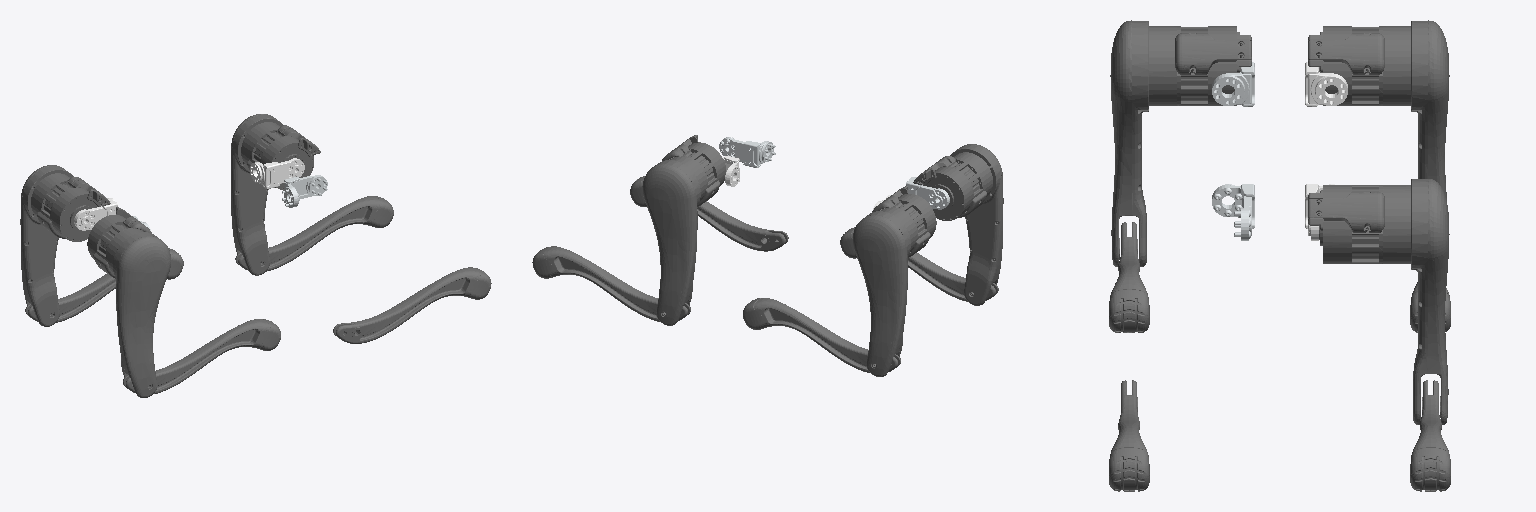
The robot description file, URDF, robot "legbot_description":
<?xml version='1.0' encoding='utf-8'?>
<robot name="legbot_description">
  <link name="base">
    <inertial>
      <origin xyz="-0.012 0.002 0.001" rpy="0 0 0" />
      <mass value="7.09" />
      <inertia ixx="0.044277" ixy="-0.000146" ixz="-0.024292" iyy="0.105409" iyz="-0.000032" izz="0.091875" />
    </inertial>
    <visual>
      <origin xyz="0 0 0" rpy="0 0 0" />
      <geometry><mesh filename="package://legbot_description/meshes/base_link.STL" /></geometry>
      <material name="grey"><color rgba="0.752941 0.752941 0.752941 1" /></material>
    </visual>
    <collision>
      <origin xyz="0 0 0.004583" rpy="0 0 0" />
      <geometry><box size="0.27 0.21 0.11" /></geometry>
    </collision>
  </link>

  <link name="FR_hip">
    <inertial>
      <origin xyz="-0.027882 0.015355 0" rpy="0 0 0" />
      <mass value="0.079643" />
      <inertia ixx="8.72171e-05" ixy="0" ixz="0" iyy="7.7874e-05" iyz="0" izz="2.29089e-05" />
    </inertial>
    <visual>
      <origin xyz="0 0 0" rpy="0 0 0" />
      <geometry><mesh filename="package://legbot_description/meshes/FR_hip.STL" /></geometry>
      <material name="light_grey"><color rgba="0.898039 0.917647 0.929412 1" /></material>
    </visual>
    <collision>
      <origin xyz="0 -0.04875 0" rpy="1.5707963 0 0" />
      <geometry><cylinder length="0.04" radius="0.046" /></geometry>
    </collision>
  </link>
  <joint name="FR_hip_joint" type="revolute">
    <origin xyz="0.18453 -0.051 0.012" rpy="0 0 0" />
    <parent link="base" /><child link="FR_hip" />
    <axis xyz="1 0 0" />
    <limit lower="-0.73304" upper="0.73304" effort="16" velocity="30" />
  </joint>

  <link name="FR_thigh">
    <inertial>
      <origin xyz="-0.000498 0.038065 -0.024467" rpy="0 0 0" />
      <mass value="1.456" />
      <inertia ixx="0.00679074" ixy="0" ixz="0" iyy="0.00586921" iyz="0" izz="0.00204705" />
    </inertial>
    <visual>
      <origin xyz="0 0 0" rpy="0 0 0" />
      <geometry><mesh filename="package://legbot_description/meshes/FR_thigh.STL" /></geometry>
      <material name="dark_grey"><color rgba="0.498039 0.498039 0.498039 1" /></material>
    </visual>
    <collision>
      <origin rpy="0 1.5707963 0" xyz="0 0 -0.1" />
      <geometry><box size="0.2 0.026 0.034" /></geometry>
    </collision>
  </link>
  <joint name="FR_thigh_joint" type="revolute">
    <origin xyz="0 -0.0975 0" rpy="0 0 0" />
    <parent link="FR_hip" /><child link="FR_thigh" />
    <axis xyz="0 1 0" />
    <limit lower="-1.559" upper="3.1298" effort="16" velocity="30" />
  </joint>

  <link name="FR_calf">
    <inertial>
      <origin xyz="0.00261631 0 -0.125302" rpy="0 0 0" />
      <mass value="0.183986" />
      <inertia ixx="0.00125035" ixy="0" ixz="0" iyy="0.0012368" iyz="0" izz="3.55485e-05" />
    </inertial>
    <visual>
      <origin xyz="0 0 0" rpy="0 0 0" />
      <geometry><mesh filename="package://legbot_description/meshes/FR_calf.STL" /></geometry>
      <material name="dark_grey"><color rgba="0.498039 0.498039 0.498039 1" /></material>
    </visual>
    <collision>
      <origin rpy="0 0 0" xyz="0 0 -0.1" />
      <geometry><cylinder length="0.16" radius="0.012" /></geometry>
    </collision>
  </link>
  <joint name="FR_calf_joint" type="revolute">
    <origin xyz="0 0 -0.1985" rpy="0 0 0" />
    <parent link="FR_thigh" /><child link="FR_calf" />
    <axis xyz="0 1 0" />
    <limit lower="-2.6387" upper="-0.7854" effort="32" velocity="15.7" />
  </joint>

  <link name="FR_foot">
    <inertial><origin xyz="0 0 0" rpy="0 0 0" /><mass value="0.025" /><inertia ixx="9.6e-06" ixy="0" ixz="0" iyy="9.6e-06" iyz="0" izz="9.6e-06" /></inertial>
    <visual>
      <origin xyz="0 0 0" rpy="0 0 0" />
      <geometry><mesh filename="package://legbot_description/meshes/FR_foot.STL" /></geometry>
      <material name="dark_grey"><color rgba="0.498039 0.498039 0.498039 1" /></material>
    </visual>
    <collision>
      <origin rpy="0 0 0" xyz="0 0 0" />
      <geometry><sphere radius="0.021" /></geometry>
    </collision>
  </link>
  <joint name="FR_foot_joint" type="fixed" dont_collapse="true">
    <origin xyz="0 0 -0.214" rpy="0 0 0" />
    <parent link="FR_calf" /><child link="FR_foot" />
  </joint>

  <link name="FL_hip">
    <inertial>
      <origin xyz="-0.027882 -0.015355 0" rpy="0 0 0" />
      <mass value="0.079643" />
      <inertia ixx="8.72171e-05" ixy="0" ixz="0" iyy="7.7874e-05" iyz="0" izz="2.29089e-05" />
    </inertial>
    <visual>
      <origin xyz="0 0 0" rpy="0 0 0" />
      <geometry><mesh filename="package://legbot_description/meshes/FL_hip.STL" /></geometry>
      <material name="white"><color rgba="1 1 1 1" /></material>
    </visual>
    <collision>
      <origin xyz="0 0.04875 0" rpy="1.5707963 0 0" />
      <geometry><cylinder length="0.04" radius="0.046" /></geometry>
    </collision>
  </link>
  <joint name="FL_hip_joint" type="revolute">
    <origin xyz="0.18453 0.051 0.012" rpy="0 0 0" />
    <parent link="base" /><child link="FL_hip" />
    <axis xyz="1 0 0" />
    <limit lower="-0.73304" upper="0.73304" effort="16" velocity="30" />
  </joint>

  <link name="FL_thigh">
    <inertial>
      <origin xyz="-0.000498 -0.038065 -0.024467" rpy="0 0 0" />
      <mass value="1.456" />
      <inertia ixx="0.00679074" ixy="0" ixz="0" iyy="0.00586921" iyz="0" izz="0.00204705" />
    </inertial>
    <visual>
      <origin xyz="0 0 0" rpy="0 0 0" />
      <geometry><mesh filename="package://legbot_description/meshes/FL_thigh.STL" /></geometry>
      <material name="dark_grey"><color rgba="0.498039 0.498039 0.498039 1" /></material>
    </visual>
    <collision>
      <origin rpy="0 1.5707963 0" xyz="0 0 -0.1" />
      <geometry><box size="0.2 0.026 0.034" /></geometry>
    </collision>
  </link>
  <joint name="FL_thigh_joint" type="revolute">
    <origin xyz="0 0.0975 0" rpy="0 0 0" />
    <parent link="FL_hip" /><child link="FL_thigh" />
    <axis xyz="0 1 0" />
    <limit lower="-1.559" upper="3.1298" effort="16" velocity="30" />
  </joint>

  <link name="FL_calf">
    <inertial>
      <origin xyz="0.00261631 0 -0.125302" rpy="0 0 0" />
      <mass value="0.183986" />
      <inertia ixx="0.00125035" ixy="0" ixz="0" iyy="0.0012368" iyz="0" izz="3.55485e-05" />
    </inertial>
    <visual>
      <origin xyz="0 0 0" rpy="0 0 0" />
      <geometry><mesh filename="package://legbot_description/meshes/FL_calf.STL" /></geometry>
      <material name="dark_grey"><color rgba="0.498039 0.498039 0.498039 1" /></material>
    </visual>
    <collision>
      <origin rpy="0 0 0" xyz="0 0 -0.1" />
      <geometry><cylinder length="0.16" radius="0.012" /></geometry>
    </collision>
  </link>
  <joint name="FL_calf_joint" type="revolute">
    <origin xyz="0 0 -0.1985" rpy="0 0 0" />
    <parent link="FL_thigh" /><child link="FL_calf" />
    <axis xyz="0 1 0" />
    <limit lower="-2.6387" upper="-0.7854" effort="32" velocity="15.7" />
  </joint>

  <link name="FL_foot">
    <inertial><origin xyz="0 0 0" rpy="0 0 0" /><mass value="0.025" /><inertia ixx="9.6e-06" ixy="0" ixz="0" iyy="9.6e-06" iyz="0" izz="9.6e-06" /></inertial>
    <visual>
      <origin xyz="0 0 0" rpy="0 0 0" />
      <geometry><mesh filename="package://legbot_description/meshes/FL_foot.STL" /></geometry>
      <material name="dark_grey"><color rgba="0.498039 0.498039 0.498039 1" /></material>
    </visual>
    <collision>
      <origin rpy="0 0 0" xyz="0 0 0" />
      <geometry><sphere radius="0.021" /></geometry>
    </collision>
  </link>
  <joint name="FL_foot_joint" type="fixed" dont_collapse="true">
    <origin xyz="0 0 -0.214" rpy="0 0 0" />
    <parent link="FL_calf" /><child link="FL_foot" />
  </joint>

  <link name="RR_hip">
    <inertial>
      <origin xyz="0.027882 0.015355 0" rpy="0 0 0" />
      <mass value="0.079643" />
      <inertia ixx="8.72171e-05" ixy="0" ixz="0" iyy="7.7874e-05" iyz="0" izz="2.29089e-05" />
    </inertial>
    <visual>
      <origin xyz="0 0 0" rpy="0 0 0" />
      <geometry><mesh filename="package://legbot_description/meshes/RR_hip.STL" /></geometry>
      <material name="light_grey"><color rgba="0.898039 0.917647 0.929412 1" /></material>
    </visual>
    <collision>
      <origin xyz="0 -0.04875 0" rpy="1.5707963 0 0" />
      <geometry><cylinder length="0.04" radius="0.046" /></geometry>
    </collision>
  </link>
  <joint name="RR_hip_joint" type="revolute">
    <origin xyz="-0.18453 -0.051 0.012" rpy="0 0 0" />
    <parent link="base" /><child link="RR_hip" />
    <axis xyz="1 0 0" />
    <limit lower="-0.73304" upper="0.73304" effort="16" velocity="30" />
  </joint>

  <link name="RR_thigh">
    <inertial>
      <origin xyz="-0.000498 0.038065 -0.024467" rpy="0 0 0" />
      <mass value="1.456" />
      <inertia ixx="0.00679074" ixy="0" ixz="0" iyy="0.00586921" iyz="0" izz="0.00204705" />
    </inertial>
    <visual>
      <origin xyz="0 0 0" rpy="0 0 0" />
      <geometry><mesh filename="package://legbot_description/meshes/RR_thigh.STL" /></geometry>
      <material name="dark_grey"><color rgba="0.498039 0.498039 0.498039 1" /></material>
    </visual>
    <collision>
      <origin rpy="0 1.5707963 0" xyz="0 0 -0.1" />
      <geometry><box size="0.2 0.026 0.034" /></geometry>
    </collision>
  </link>
  <joint name="RR_thigh_joint" type="revolute">
    <origin xyz="0 -0.0975 0" rpy="0 0 0" />
    <parent link="RR_hip" /><child link="RR_thigh" />
    <axis xyz="0 1 0" />
    <limit lower="-0.51181" upper="4.177" effort="16" velocity="30" />
  </joint>

  <link name="RR_calf">
    <inertial>
      <origin xyz="0.00261631 0 -0.125302" rpy="0 0 0" />
      <mass value="0.183986" />
      <inertia ixx="0.00125035" ixy="0" ixz="0" iyy="0.0012368" iyz="0" izz="3.55485e-05" />
    </inertial>
    <visual>
      <origin xyz="0 0 0" rpy="0 0 0" />
      <geometry><mesh filename="package://legbot_description/meshes/RR_calf.STL" /></geometry>
      <material name="dark_grey"><color rgba="0.498039 0.498039 0.498039 1" /></material>
    </visual>
    <collision>
      <origin rpy="0 0 0" xyz="0 0 -0.1" />
      <geometry><cylinder length="0.16" radius="0.012" /></geometry>
    </collision>
  </link>
  <joint name="RR_calf_joint" type="revolute">
    <origin xyz="0 0 -0.1985" rpy="0 0 0" />
    <parent link="RR_thigh" /><child link="RR_calf" />
    <axis xyz="0 1 0" />
    <limit lower="-2.6387" upper="-0.7854" effort="32" velocity="15.7" />
  </joint>

  <link name="RR_foot">
    <inertial><origin xyz="0 0 0" rpy="0 0 0" /><mass value="0.025" /><inertia ixx="9.6e-06" ixy="0" ixz="0" iyy="9.6e-06" iyz="0" izz="9.6e-06" /></inertial>
    <visual>
      <origin xyz="0 0 0" rpy="0 0 0" />
      <geometry><mesh filename="package://legbot_description/meshes/RR_foot.STL" /></geometry>
      <material name="dark_grey"><color rgba="0.498039 0.498039 0.498039 1" /></material>
    </visual>
    <collision>
      <origin rpy="0 0 0" xyz="0 0 0" />
      <geometry><sphere radius="0.021" /></geometry>
    </collision>
  </link>
  <joint name="RR_foot_joint" type="fixed" dont_collapse="true">
    <origin xyz="0 0 -0.214" rpy="0 0 0" />
    <parent link="RR_calf" /><child link="RR_foot" />
  </joint>

  <link name="RL_hip">
    <inertial>
      <origin xyz="0.027882 -0.015355 0" rpy="0 0 0" />
      <mass value="0.079643" />
      <inertia ixx="8.72171e-05" ixy="0" ixz="0" iyy="7.7874e-05" iyz="0" izz="2.29089e-05" />
    </inertial>
    <visual>
      <origin xyz="0 0 0" rpy="0 0 0" />
      <geometry><mesh filename="package://legbot_description/meshes/RL_hip.STL" /></geometry>
      <material name="white"><color rgba="1 1 1 1" /></material>
    </visual>
    <collision>
      <origin xyz="0 0.04875 0" rpy="1.5707963 0 0" />
      <geometry><cylinder length="0.04" radius="0.046" /></geometry>
    </collision>
  </link>
  <joint name="RL_hip_joint" type="revolute">
    <origin xyz="-0.18453 0.051 0.012" rpy="0 0 0" />
    <parent link="base" /><child link="RL_hip" />
    <axis xyz="1 0 0" />
    <limit lower="-0.73304" upper="0.73304" effort="16" velocity="30" />
  </joint>

  <link name="RL_thigh">
    <inertial>
      <origin xyz="-0.000498 -0.038065 -0.024467" rpy="0 0 0" />
      <mass value="1.456" />
      <inertia ixx="0.00679074" ixy="0" ixz="0" iyy="0.00586921" iyz="0" izz="0.00204705" />
    </inertial>
    <visual>
      <origin xyz="0 0 0" rpy="0 0 0" />
      <geometry><mesh filename="package://legbot_description/meshes/RL_thigh.STL" /></geometry>
      <material name="dark_grey"><color rgba="0.498039 0.498039 0.498039 1" /></material>
    </visual>
    <collision>
      <origin rpy="0 1.5707963 0" xyz="0 0 -0.1" />
      <geometry><box size="0.2 0.026 0.034" /></geometry>
    </collision>
  </link>
  <joint name="RL_thigh_joint" type="revolute">
    <origin xyz="0 0.0975 0" rpy="0 0 0" />
    <parent link="RL_hip" /><child link="RL_thigh" />
    <axis xyz="0 1 0" />
    <limit lower="-0.51181" upper="4.177" effort="16" velocity="30" />
  </joint>

  <link name="RL_calf">
    <inertial>
      <origin xyz="0.00261631 0 -0.125302" rpy="0 0 0" />
      <mass value="0.183986" />
      <inertia ixx="0.00125035" ixy="0" ixz="0" iyy="0.0012368" iyz="0" izz="3.55485e-05" />
    </inertial>
    <visual>
      <origin xyz="0 0 0" rpy="0 0 0" />
      <geometry><mesh filename="package://legbot_description/meshes/RL_calf.STL" /></geometry>
      <material name="dark_grey"><color rgba="0.498039 0.498039 0.498039 1" /></material>
    </visual>
    <collision>
      <origin rpy="0 0 0" xyz="0 0 -0.1" />
      <geometry><cylinder length="0.16" radius="0.012" /></geometry>
    </collision>
  </link>
  <joint name="RL_calf_joint" type="revolute">
    <origin xyz="0 0 -0.1985" rpy="0 0 0" />
    <parent link="RL_thigh" /><child link="RL_calf" />
    <axis xyz="0 1 0" />
    <limit lower="-2.6387" upper="-0.7854" effort="32" velocity="15.7" />
  </joint>

  <link name="RL_foot">
    <inertial><origin xyz="0 0 0" rpy="0 0 0" /><mass value="0.025" /><inertia ixx="9.6e-06" ixy="0" ixz="0" iyy="9.6e-06" iyz="0" izz="9.6e-06" /></inertial>
    <visual>
      <origin xyz="0 0 0" rpy="0 0 0" />
      <geometry><mesh filename="package://legbot_description/meshes/RL_foot.STL" /></geometry>
      <material name="dark_grey"><color rgba="0.498039 0.498039 0.498039 1" /></material>
    </visual>
    <collision>
      <origin rpy="0 0 0" xyz="0 0 0" />
      <geometry><sphere radius="0.021" /></geometry>
    </collision>
  </link>
  <joint name="RL_foot_joint" type="fixed" dont_collapse="true">
    <origin xyz="0 0 -0.214" rpy="0 0 0" />
    <parent link="RL_calf" /><child link="RL_foot" />
  </joint>
</robot>

--- What the picture shows (computed from the rendered views, not written in the file) ---
3 views of the same robot in one strip: view 1: azimuth 30°, elevation 25°; view 2: azimuth 150°, elevation 25°; view 3: azimuth 270°, elevation 25° (orthographic).
Robot: legbot_description — 17 links, 16 joints (12 revolute, 4 fixed); root link base; default pose: joints at zero except 4 at the middle of their limits (FR_calf_joint = -1.71, FL_calf_joint = -1.71, RR_calf_joint = -1.71, RL_calf_joint = -1.71).
Visible links, largest first — view 1: RR_thigh, RL_thigh, FL_thigh, FR_calf, RR_calf, FL_calf, RL_calf, FL_hip, FR_hip, RL_hip; view 2: RL_thigh, FL_thigh, RR_thigh, FL_calf, RL_calf, FR_calf, RR_calf, FR_hip, RR_hip; view 3: FL_thigh, RR_thigh, RL_thigh, FR_foot, FL_foot, RR_foot, FR_hip, RR_hip, RL_hip, FR_calf, FL_calf, RR_calf.
Link boxes in pixels (bbox=[...]): RR_thigh: bbox=[87, 207, 170, 397]; RL_thigh: bbox=[20, 165, 110, 326]; FL_thigh: bbox=[231, 114, 320, 275]; FR_calf: bbox=[333, 267, 480, 343]; RR_calf: bbox=[123, 319, 269, 393]; FL_calf: bbox=[235, 196, 382, 271]; RL_calf: bbox=[25, 252, 172, 322]; FL_hip: bbox=[250, 158, 304, 188]; FR_hip: bbox=[282, 175, 327, 207]; RL_hip: bbox=[74, 198, 117, 230]; RL_thigh: bbox=[853, 186, 936, 376]; FL_thigh: bbox=[642, 135, 725, 325]; RR_thigh: bbox=[913, 144, 1003, 305]; FL_calf: bbox=[543, 246, 690, 321]; RL_calf: bbox=[754, 298, 900, 372]; FR_calf: bbox=[641, 179, 788, 251]; RR_calf: bbox=[851, 231, 998, 301]; FR_hip: bbox=[719, 137, 775, 167]; RR_hip: bbox=[906, 177, 949, 209]; FL_thigh: bbox=[1308, 179, 1449, 424]; RR_thigh: bbox=[1110, 20, 1251, 266]; RL_thigh: bbox=[1308, 20, 1449, 199]; FR_foot: bbox=[1109, 448, 1149, 491]; FL_foot: bbox=[1410, 448, 1450, 491]; RR_foot: bbox=[1109, 289, 1149, 332]; FR_hip: bbox=[1212, 184, 1254, 240]; RR_hip: bbox=[1212, 62, 1254, 106]; RL_hip: bbox=[1305, 62, 1347, 106]; FR_calf: bbox=[1111, 380, 1147, 452]; FL_calf: bbox=[1412, 380, 1448, 452]; RR_calf: bbox=[1110, 222, 1147, 295].
Bounding box of the posed robot: 0.6479 × 0.337 × 0.2647 m (x, y, z).
15 mesh visuals loaded from 17 distinct referenced files (15 binary STL); not drawn: 2 (reference not matched to a file when rendering).
